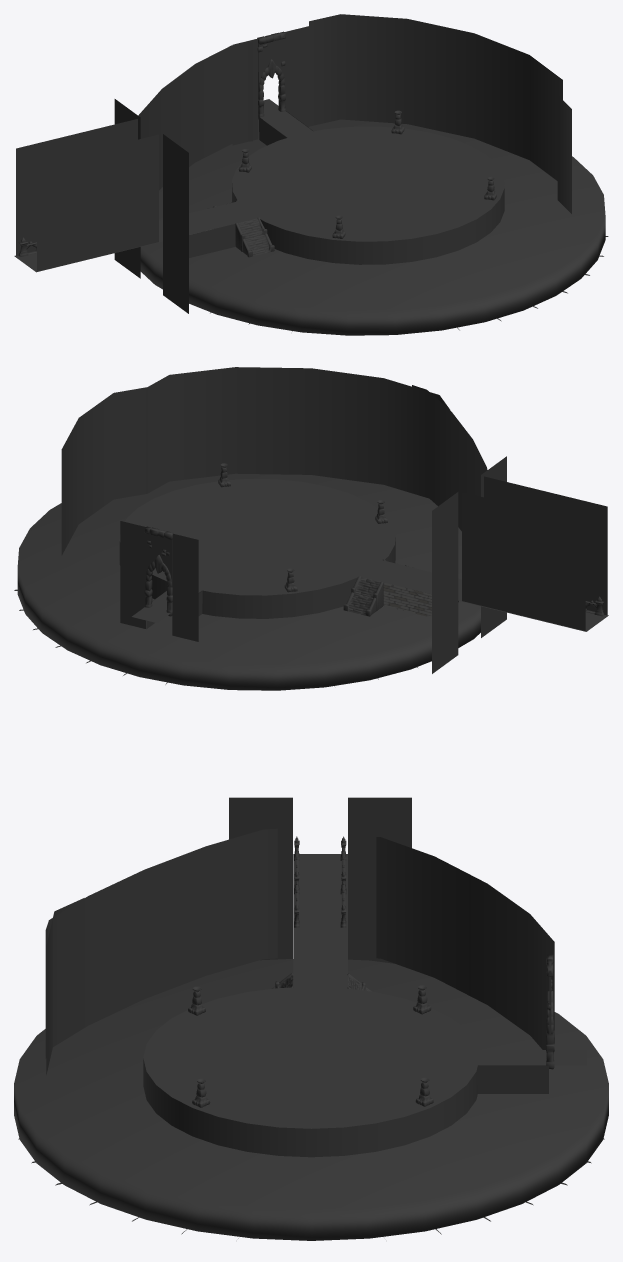
Rendered from SecondBoss.FBX.
The picture shows the model from 3 angles, top to bottom: view 1: azimuth 30°, elevation 25°; view 2: azimuth 150°, elevation 25°; view 3: azimuth 270°, elevation 25°; orthographic projection. The views are drawn at different scales.
Parts seen in each view (by area): view 1: SM_Ceiling_Round2, SM_Boss_Room_Floor1, SM_Env_Wall_Alcove_Round_01_Texture2, SM_Wall_Tall445, SM_Env_Wall_Alcove_Round_01_Texture1, SM_Wall_Tall467, SM_Wall_Tall587, SM_Wall_Tall592, SM_Wall_Tall591, SM_Floor_Ceiling804, SM_Gateway34, SM_Env_Wall_Alcove_Round_01_Texture3 (+4 smaller); view 2: SM_Ceiling_Round2, SM_Env_Wall_Alcove_Round_01_Texture3, SM_Boss_Room_Floor1, SM_Wall_Tall467, SM_Env_Wall_Alcove_Round_01_Texture2, SM_Wall_Tall445, SM_Wall_Tall519, SM_Env_Wall_Alcove_Round_01_Texture4, SM_Wall_Tall591, SM_Wall_Tall592, SM_Floor_Ceiling804, SM_Gateway34 (+4 smaller); view 3: SM_Ceiling_Round2, SM_Boss_Room_Floor1, SM_Env_Wall_Alcove_Round_01_Texture4, SM_Env_Wall_Alcove_Round_01_Texture1, SM_Floor_Ceiling804, SM_Wall_Tall519, SM_Wall_Tall587, SM_Wall266, SM_Floor_Ceiling433, SM_Env_Wall_Alcove_Round_01_Texture3, SM_Gateway34.
Part boxes in pixels (x1,y1,x2,y2): SM_Ceiling_Round2: [140, 119, 608, 335]; SM_Boss_Room_Floor1: [232, 126, 504, 264]; SM_Env_Wall_Alcove_Round_01_Texture2: [309, 14, 562, 180]; SM_Wall_Tall445: [37, 134, 158, 271]; SM_Env_Wall_Alcove_Round_01_Texture1: [138, 42, 252, 190]; SM_Wall_Tall467: [16, 119, 137, 255]; SM_Wall_Tall587: [163, 134, 188, 313]; SM_Wall_Tall592: [284, 26, 309, 126]; SM_Wall_Tall591: [232, 38, 258, 145]; SM_Floor_Ceiling804: [14, 201, 260, 272]; SM_Gateway34: [257, 31, 285, 119]; SM_Env_Wall_Alcove_Round_01_Texture3: [557, 95, 571, 213]; SM_Ceiling_Round2: [14, 473, 480, 690]; SM_Env_Wall_Alcove_Round_01_Texture3: [147, 367, 449, 498]; SM_Boss_Room_Floor1: [119, 479, 395, 618]; SM_Wall_Tall467: [462, 492, 585, 630]; SM_Env_Wall_Alcove_Round_01_Texture2: [61, 387, 147, 555]; SM_Wall_Tall445: [484, 476, 607, 615]; SM_Wall_Tall519: [432, 492, 458, 673]; SM_Env_Wall_Alcove_Round_01_Texture4: [412, 385, 487, 531]; SM_Wall_Tall591: [172, 533, 198, 641]; SM_Wall_Tall592: [120, 521, 146, 628]; SM_Floor_Ceiling804: [360, 560, 608, 631]; SM_Gateway34: [144, 526, 173, 616]; SM_Ceiling_Round2: [14, 959, 608, 1240]; SM_Boss_Room_Floor1: [143, 987, 479, 1157]; SM_Env_Wall_Alcove_Round_01_Texture4: [45, 828, 277, 1058]; SM_Env_Wall_Alcove_Round_01_Texture1: [376, 837, 554, 1049]; SM_Floor_Ceiling804: [293, 854, 347, 988]; SM_Wall_Tall519: [348, 797, 411, 963]; SM_Wall_Tall587: [229, 797, 292, 960]; SM_Wall266: [477, 1065, 548, 1093]; SM_Floor_Ceiling433: [477, 1050, 586, 1065]; SM_Env_Wall_Alcove_Round_01_Texture3: [46, 898, 84, 1074]; SM_Gateway34: [546, 954, 554, 1069].
Bounding box in the file's own units: 10658 × 8147 × 3198.
